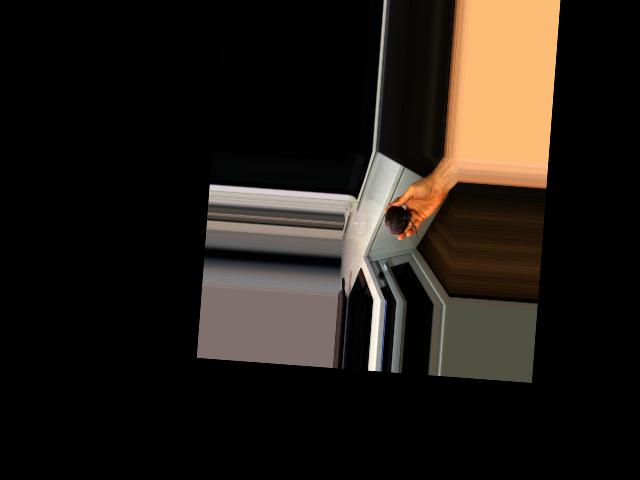beet: (383, 205, 420, 239)
